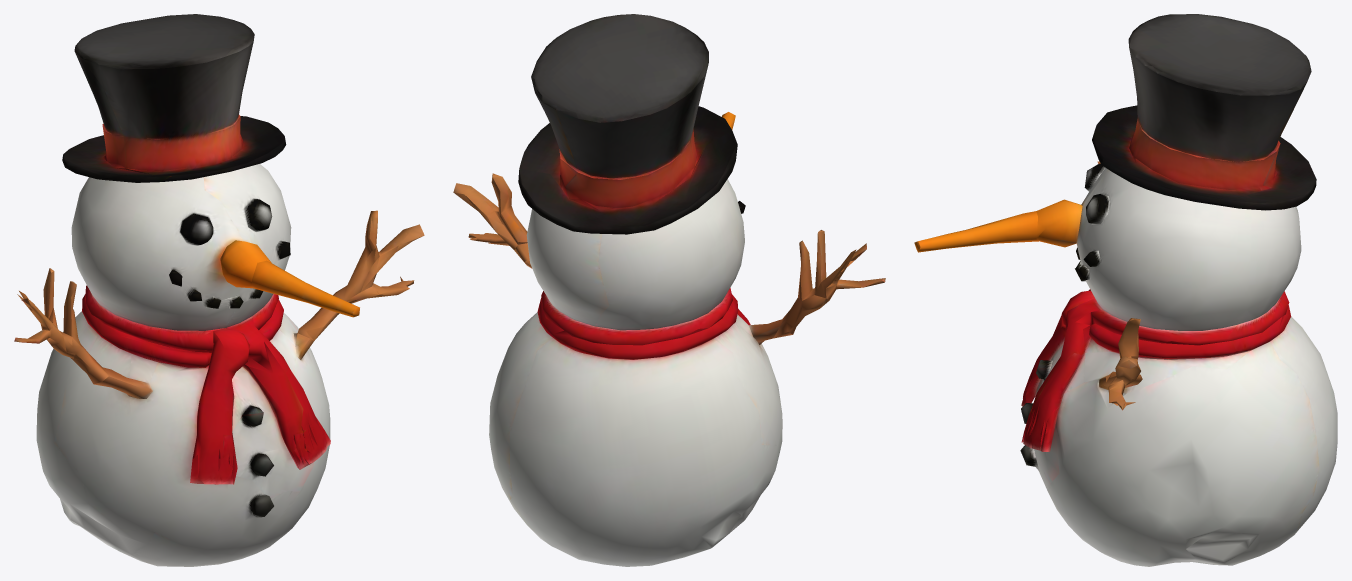
Rendered from m2Snowman.glb.
The picture shows the model from 3 angles, left to right: view 1: azimuth 30°, elevation 25°; view 2: azimuth 150°, elevation 25°; view 3: azimuth 270°, elevation 25°; orthographic projection.
Parts seen in each view (by area): view 1: model; view 2: model; view 3: model.
Part boxes in pixels (<box>): model: <box>14,14,424,566</box>; model: <box>453,14,885,566</box>; model: <box>914,14,1337,566</box>.
Bounding box in the file's own units: 1.66 × 1.9 × 1.44.
1 material, 1 textured.
